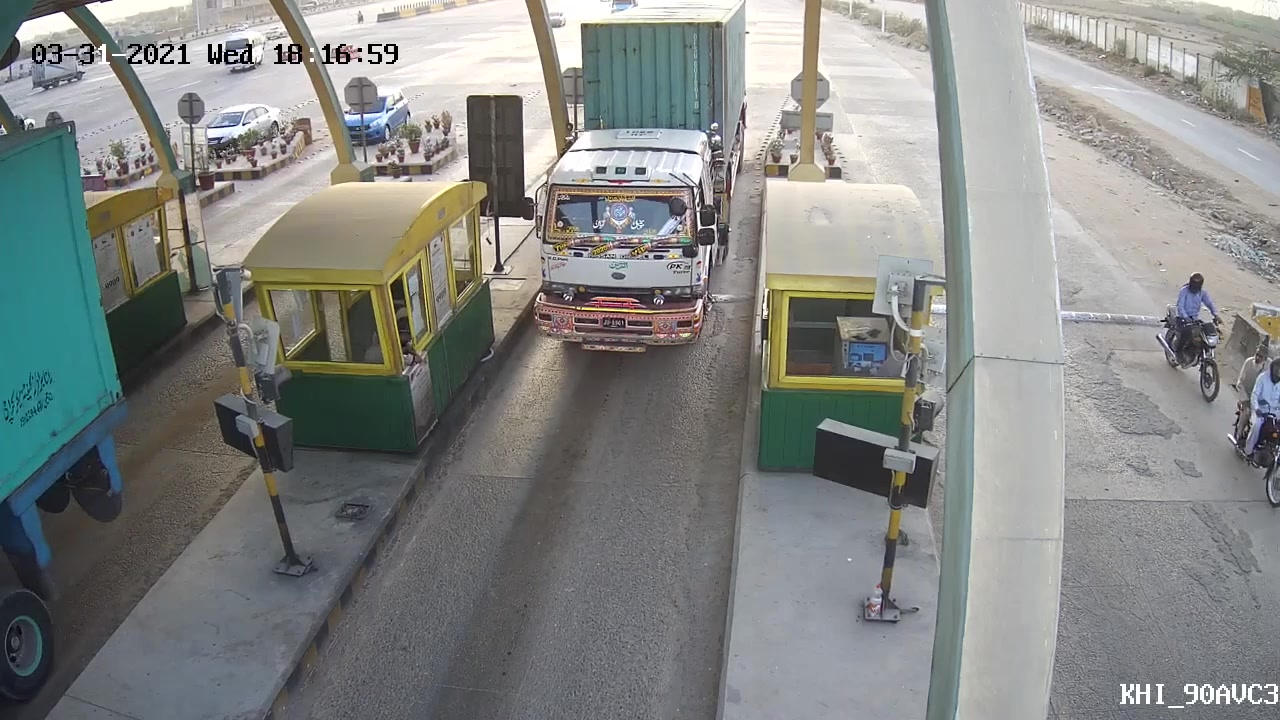F6: (515, 1, 756, 360)
